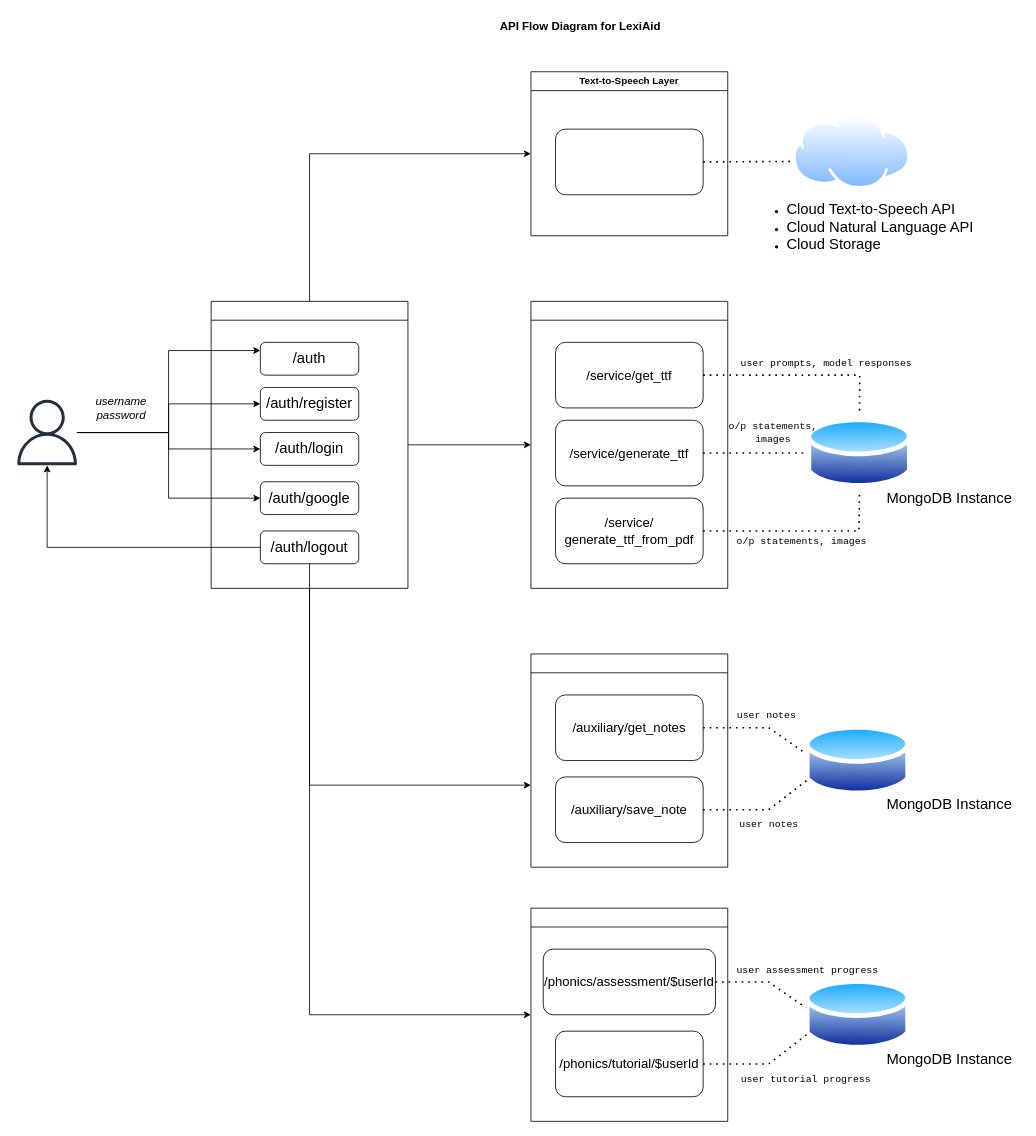
Some shapes in this 1036 by 1136 pixel diagram are drawn without their labels. The box of each missing label's shape, as (x1, y1, x2, y2) in pixels:
/texttospeech/ synthesize_speech: (555, 128, 703, 195)
Auth / Session Layer: (210, 301, 408, 588)
Auxiliary Layer: (530, 653, 728, 867)
Phonics Module: (530, 907, 728, 1121)
Service Layer: (530, 301, 728, 588)
